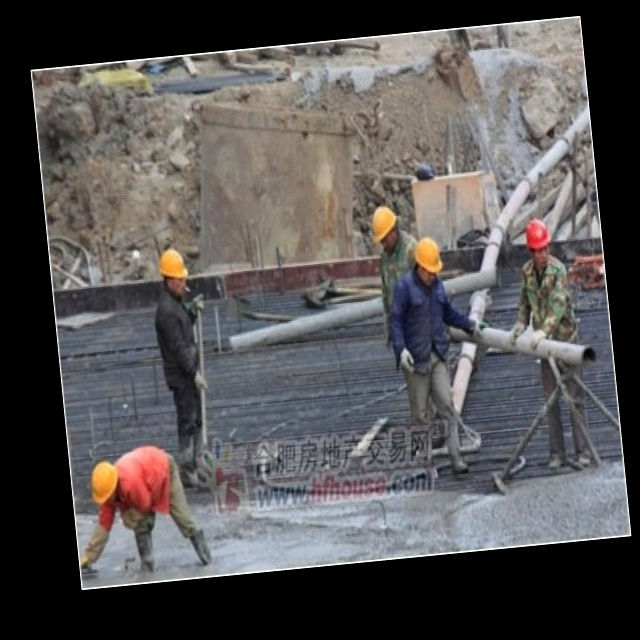Con_Casco: (159, 246, 189, 295), (88, 461, 121, 505), (525, 217, 552, 266)
